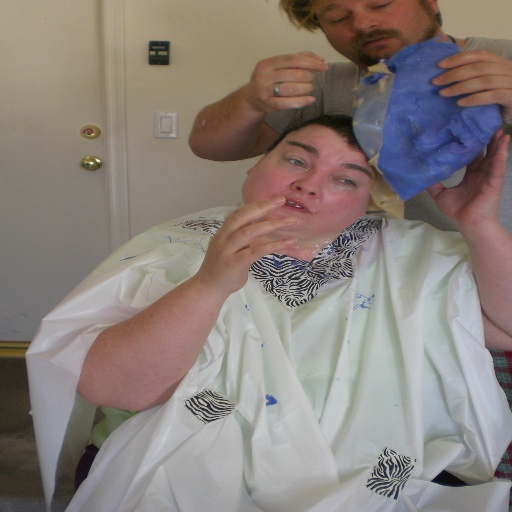hand: (189, 49, 310, 158), (197, 193, 298, 295), (423, 126, 511, 229), (429, 47, 511, 128)
